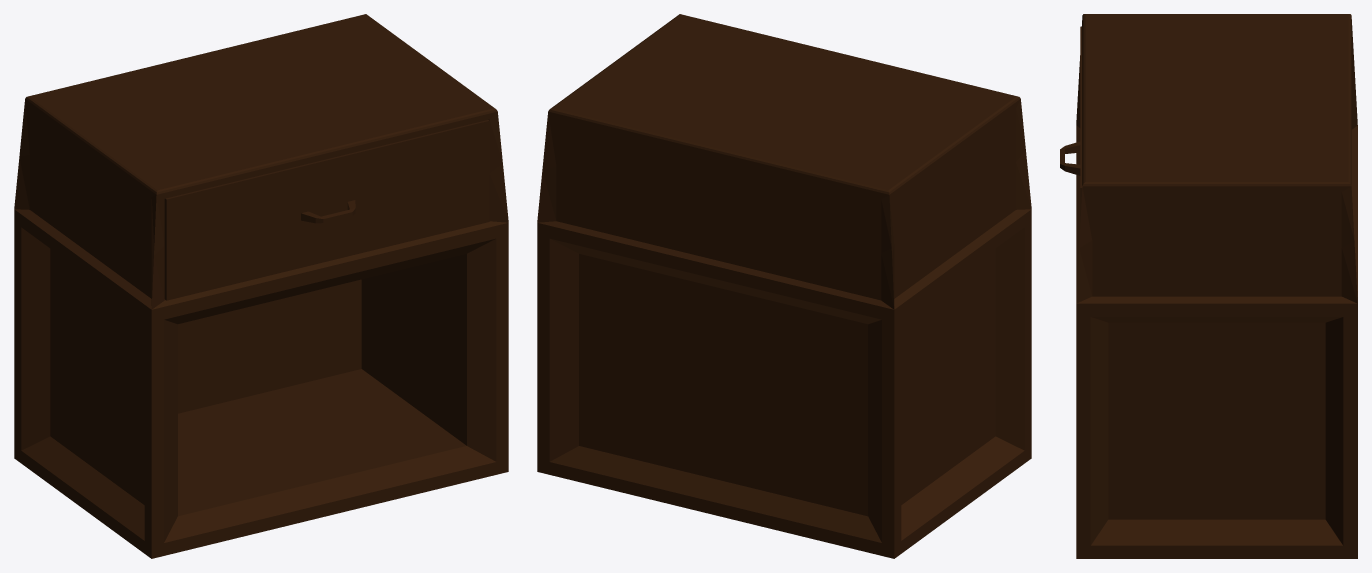
File: Bed-cabinet-12.fbx
The picture shows the model from 3 angles, left to right: view 1: azimuth 30°, elevation 25°; view 2: azimuth 150°, elevation 25°; view 3: azimuth 270°, elevation 25°; orthographic projection. The views are drawn at different scales.
Visible parts, largest first — view 1: BedCabinet, BedCabinet_Shelf; view 2: BedCabinet; view 3: BedCabinet, BedCabinet_Shelf.
Boxes of the visible parts, bbox=[...] form: BedCabinet: bbox=[14, 14, 508, 558]; BedCabinet_Shelf: bbox=[164, 120, 489, 300]; BedCabinet: bbox=[537, 14, 1031, 558]; BedCabinet: bbox=[1076, 14, 1357, 558]; BedCabinet_Shelf: bbox=[1060, 26, 1082, 222].
Bounding box in the file's own units: 157 × 152 × 111.
